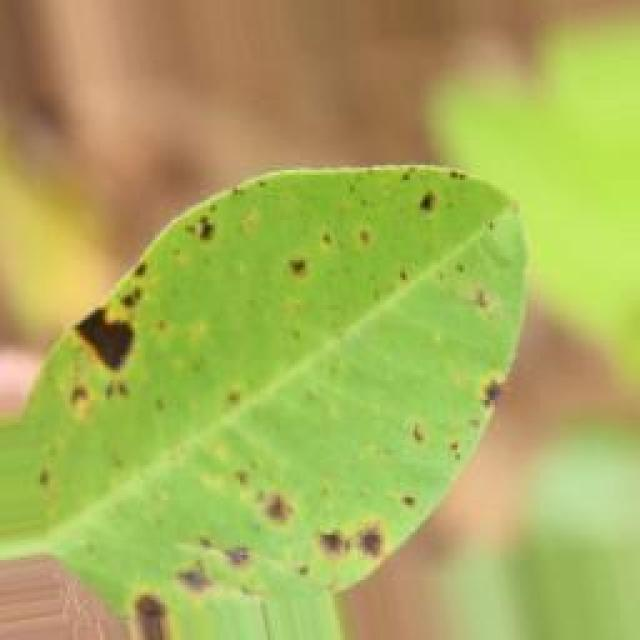Yellowish: (8, 124, 509, 606)
